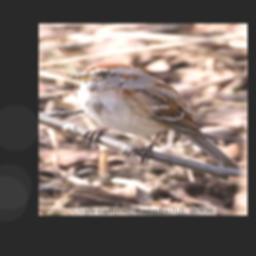Sparrow: (68, 59, 241, 180)
